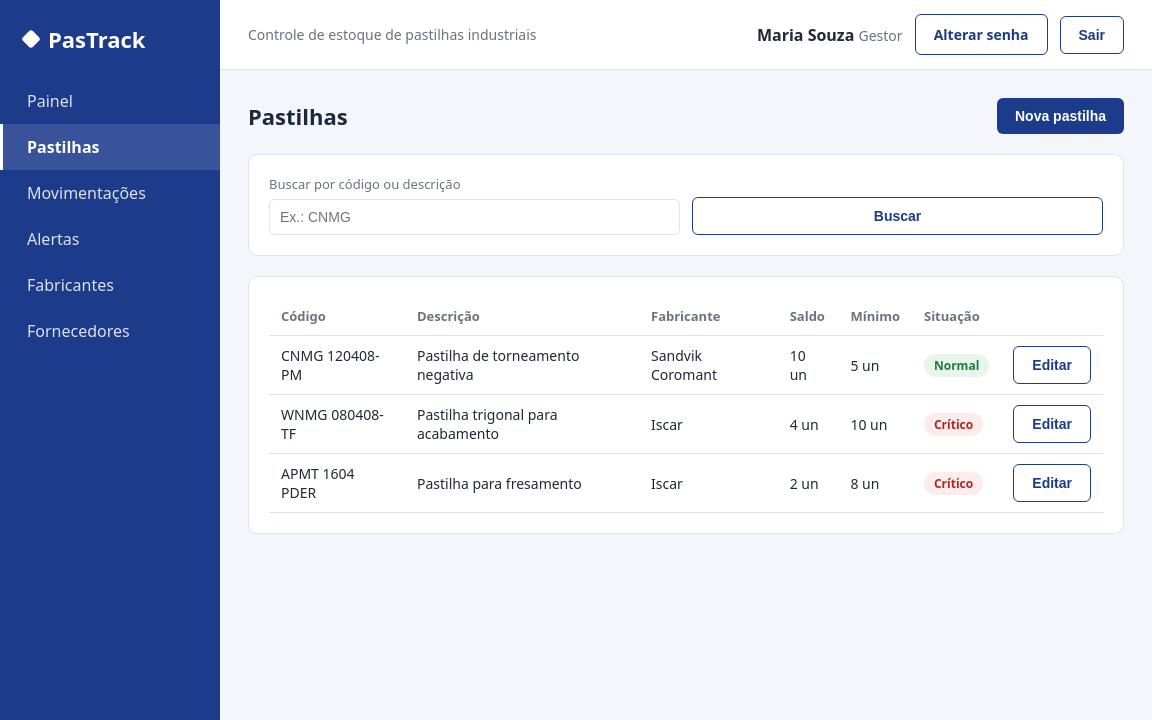
Test: fluxos de sessão na aplicação inteira › sair pelo cabeçalho encerra a sessão e volta ao login
The width and height of the screenshot is (1152, 720).
Step 1. Click the button "Sair" → click(1092, 34), box [1060,16,1124,54]
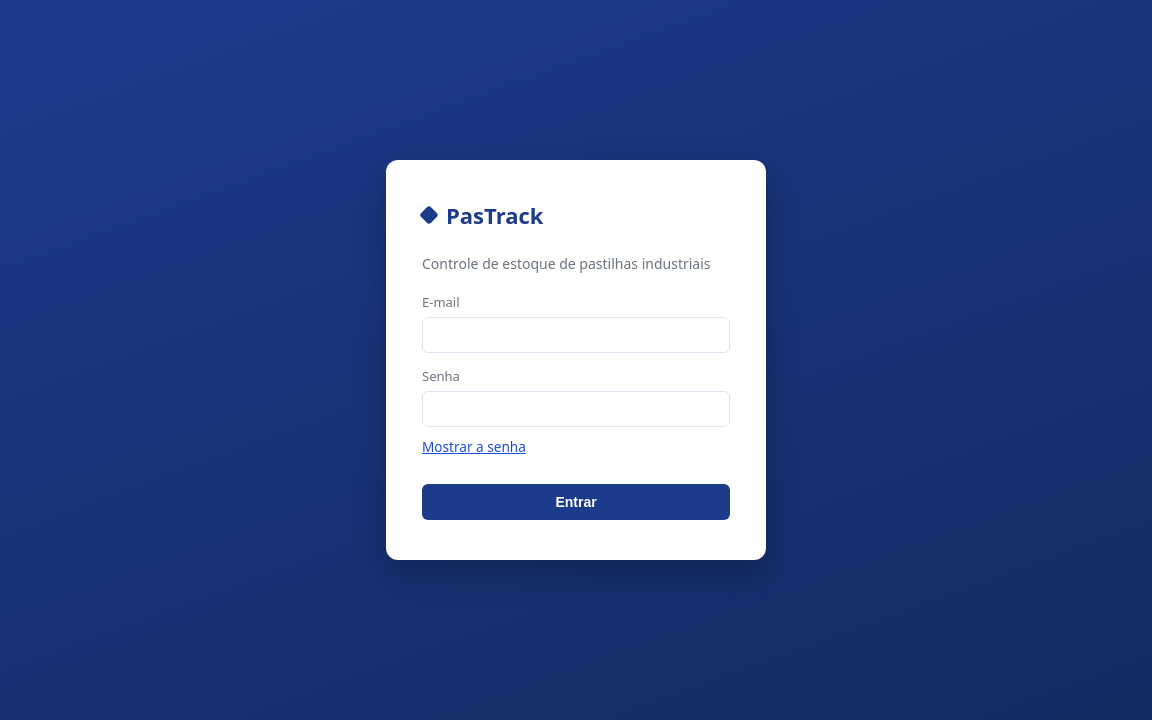
Expected: the button "Entrar" is shown, [422,484,730,520]
